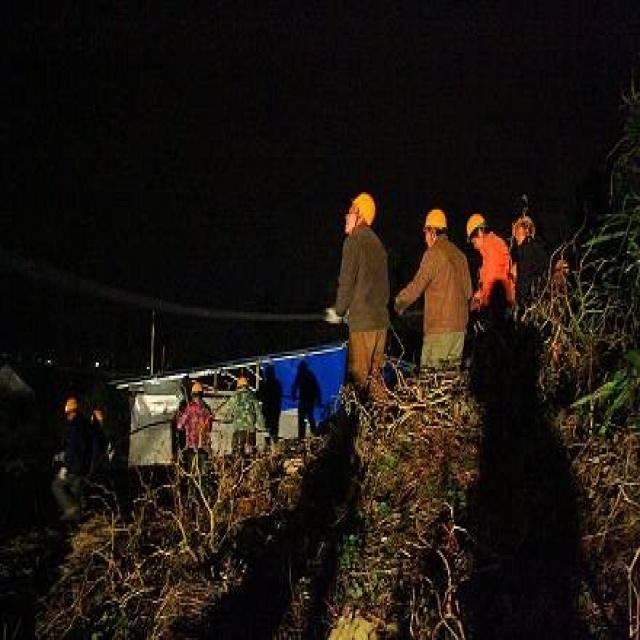helmet: (343, 246, 376, 322), (424, 270, 447, 334), (465, 280, 487, 332)
